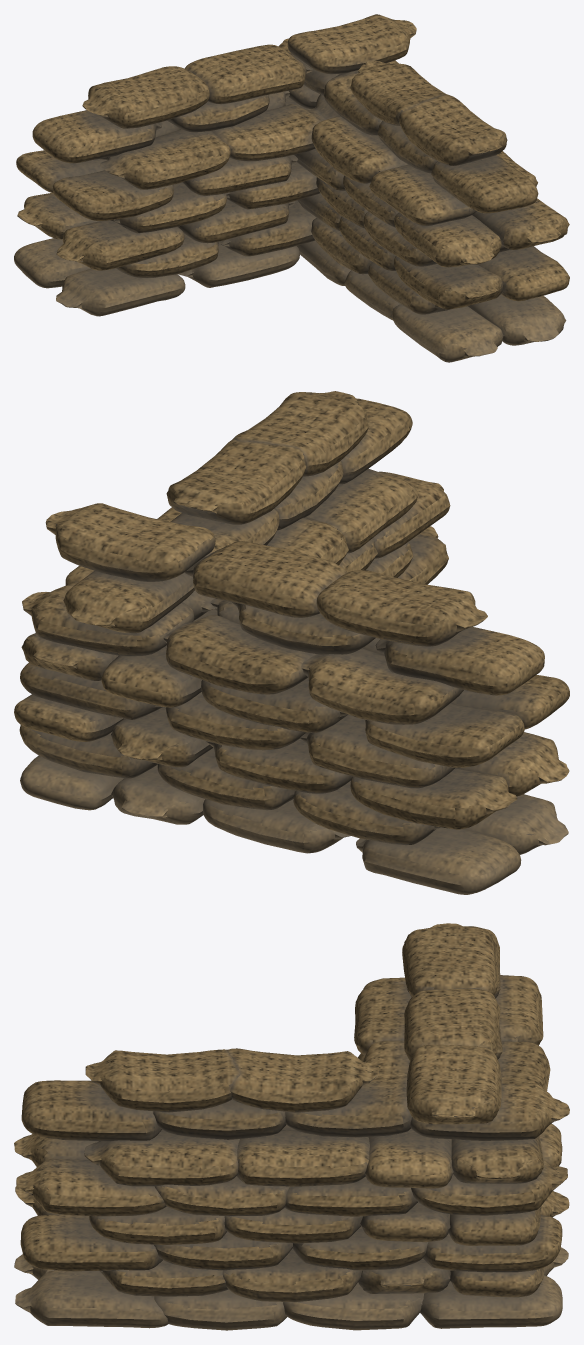
Rendered from SM_SandbagCorner_Body.fbx.
3 renders of one model, top to bottom at view 1: azimuth 30°, elevation 25°; view 2: azimuth 150°, elevation 25°; view 3: azimuth 270°, elevation 25°, orthographic. The views are drawn at different scales.
Visible parts, largest first — view 1: SandbagCorner_Body; view 2: SandbagCorner_Body; view 3: SandbagCorner_Body.
Boxes of the visible parts, x1=… form: SandbagCorner_Body: x1=14, y1=14, x2=569, y2=362; SandbagCorner_Body: x1=14, y1=391, x2=569, y2=894; SandbagCorner_Body: x1=14, y1=923, x2=569, y2=1330.
Size of the model in its own units: 2 by 1.9 by 0.931.
Materials: 1 (1 with a texture image).
